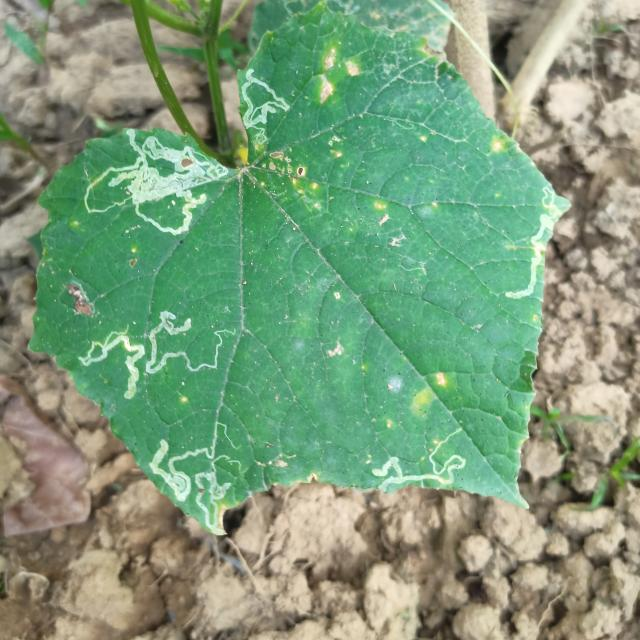disease_cucumber: (261, 150, 327, 210), (314, 52, 364, 103), (407, 371, 452, 424)
